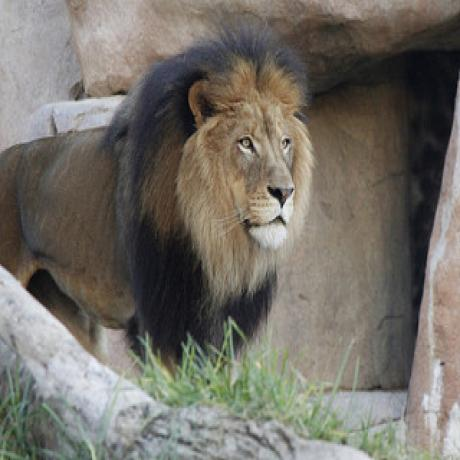Lion: (0, 20, 316, 404)
